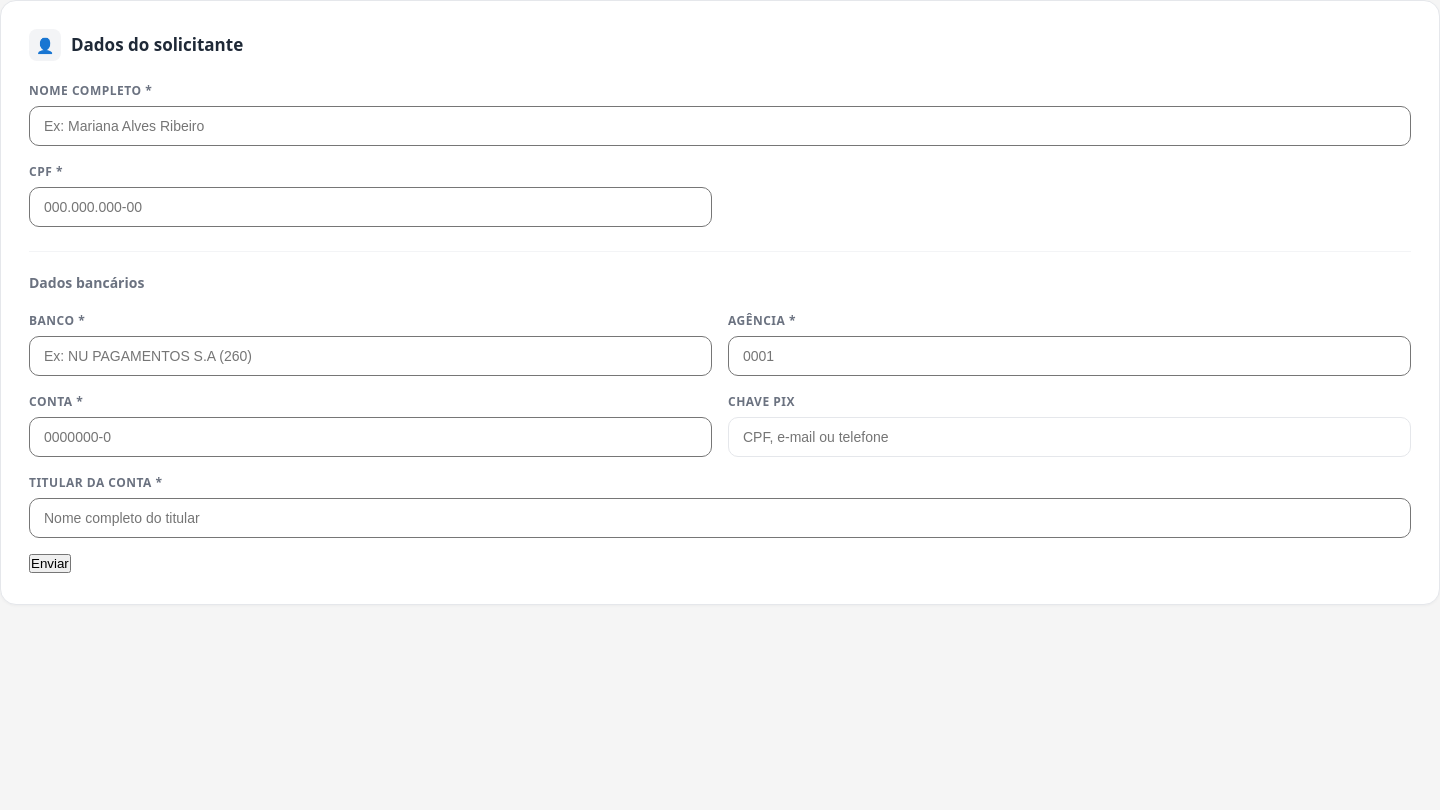
Test case: SolicitanteForm › erro some ao corrigir o campo
Step 1. Click the button "Enviar" → (50, 564), box 29,554 -> 71,573
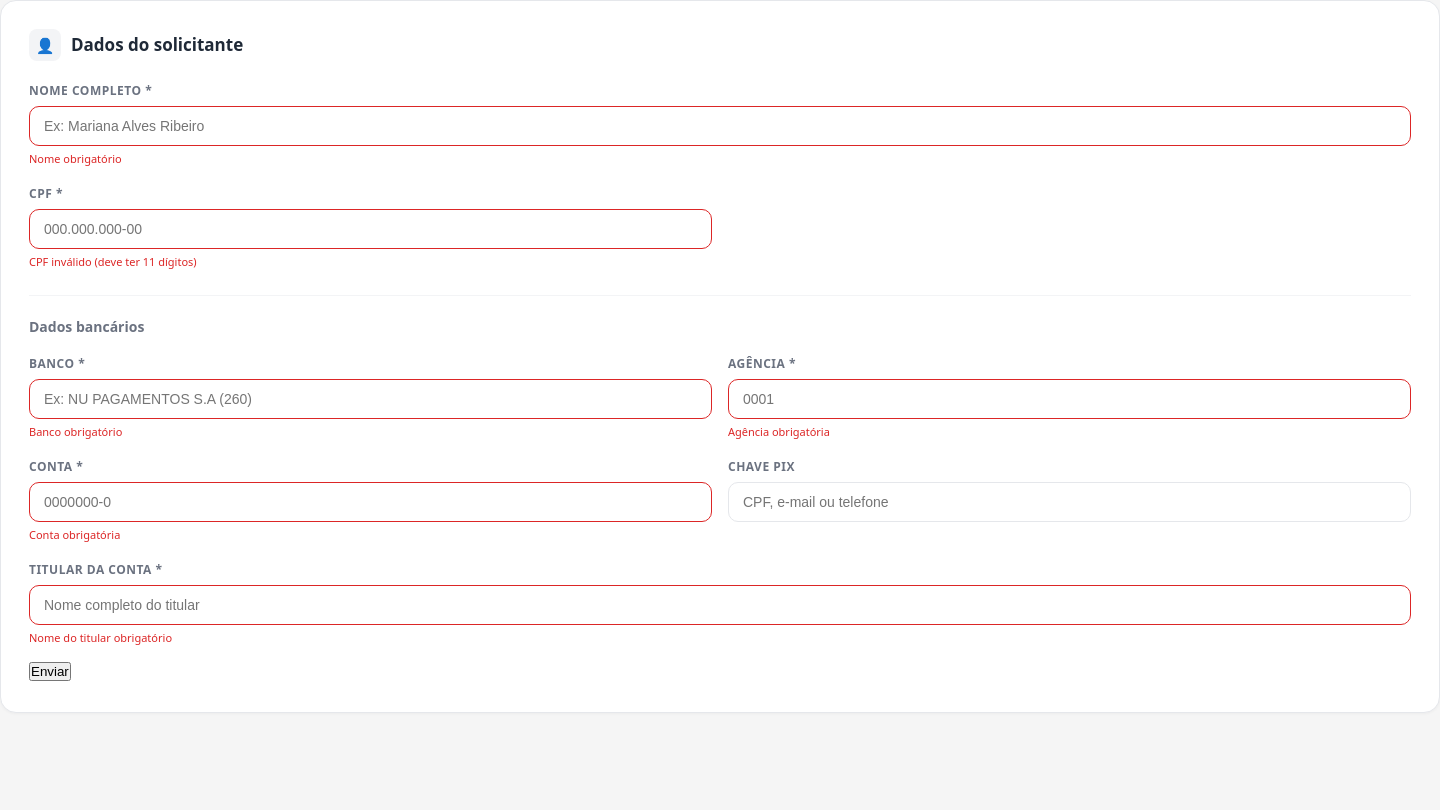
expect the text "Nome obrigatório" is shown: met, box 29,151 -> 122,166
Step 2. Type "Pedro" into the field with placeholder "Ex: Mariana Alves Ribeiro" → (720, 126), box 29,106 -> 1411,146
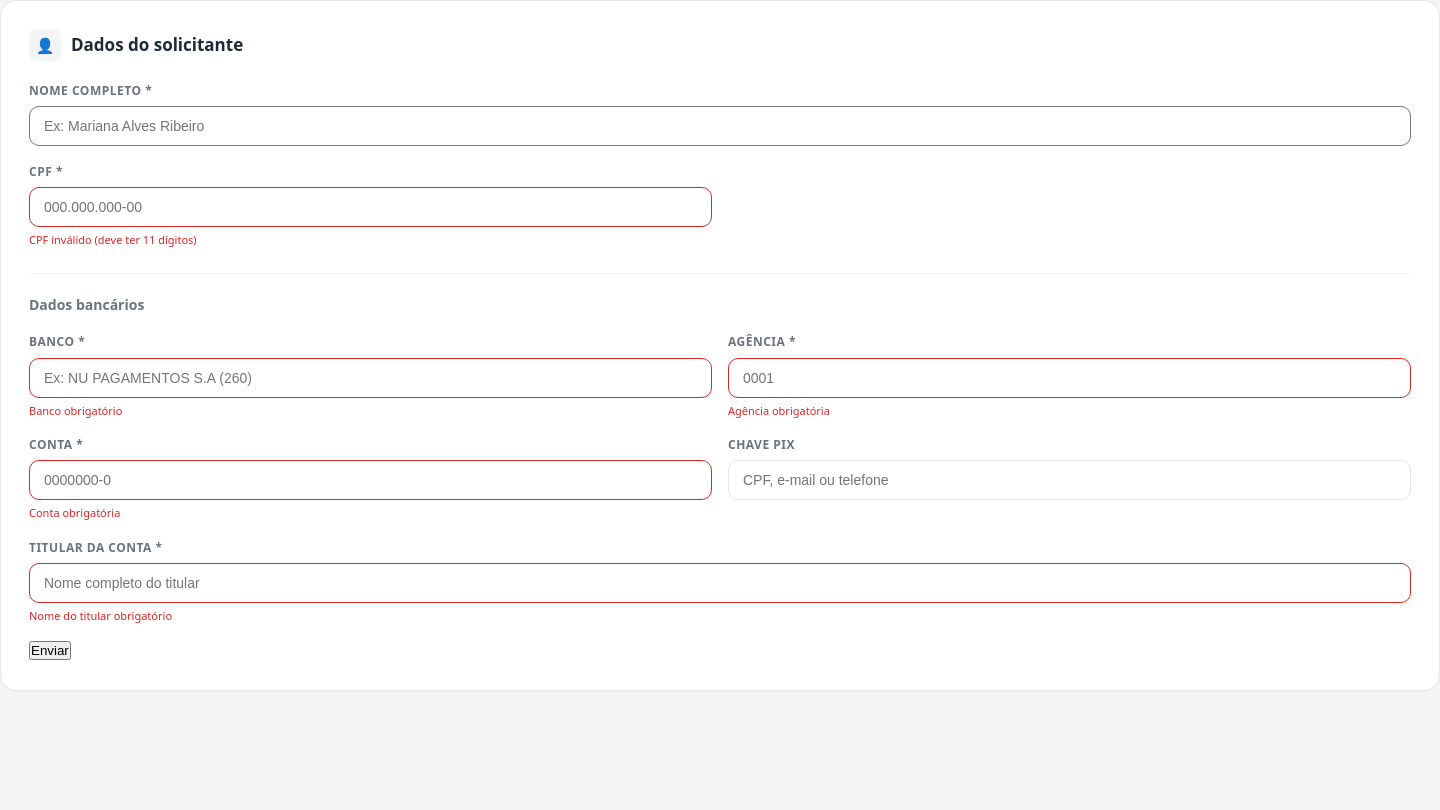
expect the text "Nome obrigatório" is gone: met
